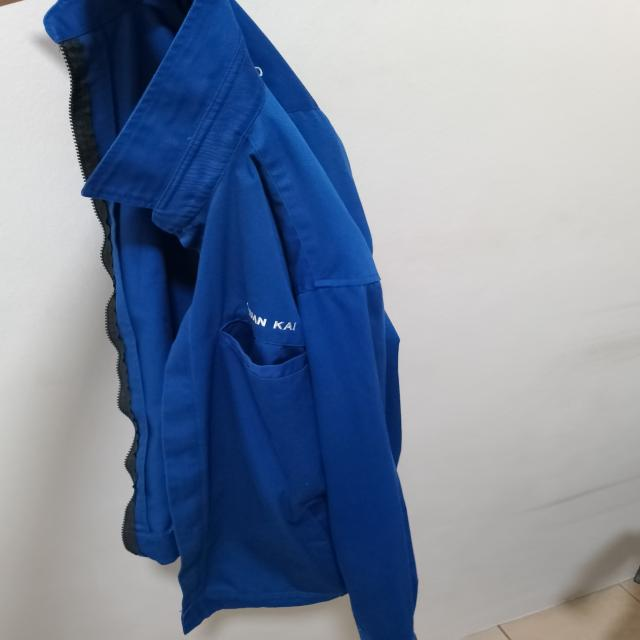person_without_labcoat: (44, 0, 417, 640)
